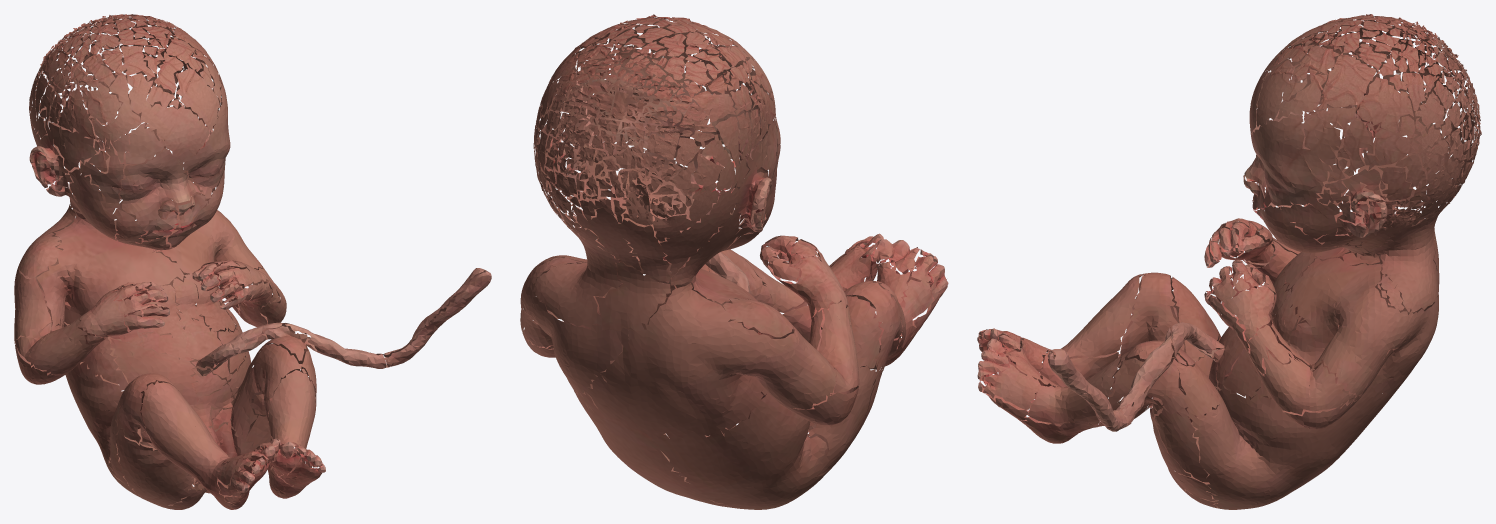
The model's file is semaine-16.glb.
The picture shows the model from 3 angles, left to right: view 1: azimuth 30°, elevation 25°; view 2: azimuth 150°, elevation 25°; view 3: azimuth 270°, elevation 25°; orthographic projection. The views are drawn at different scales.
Bounding box in the file's own units: 1.72 × 2 × 1.93.
1 material, 1 textured.
